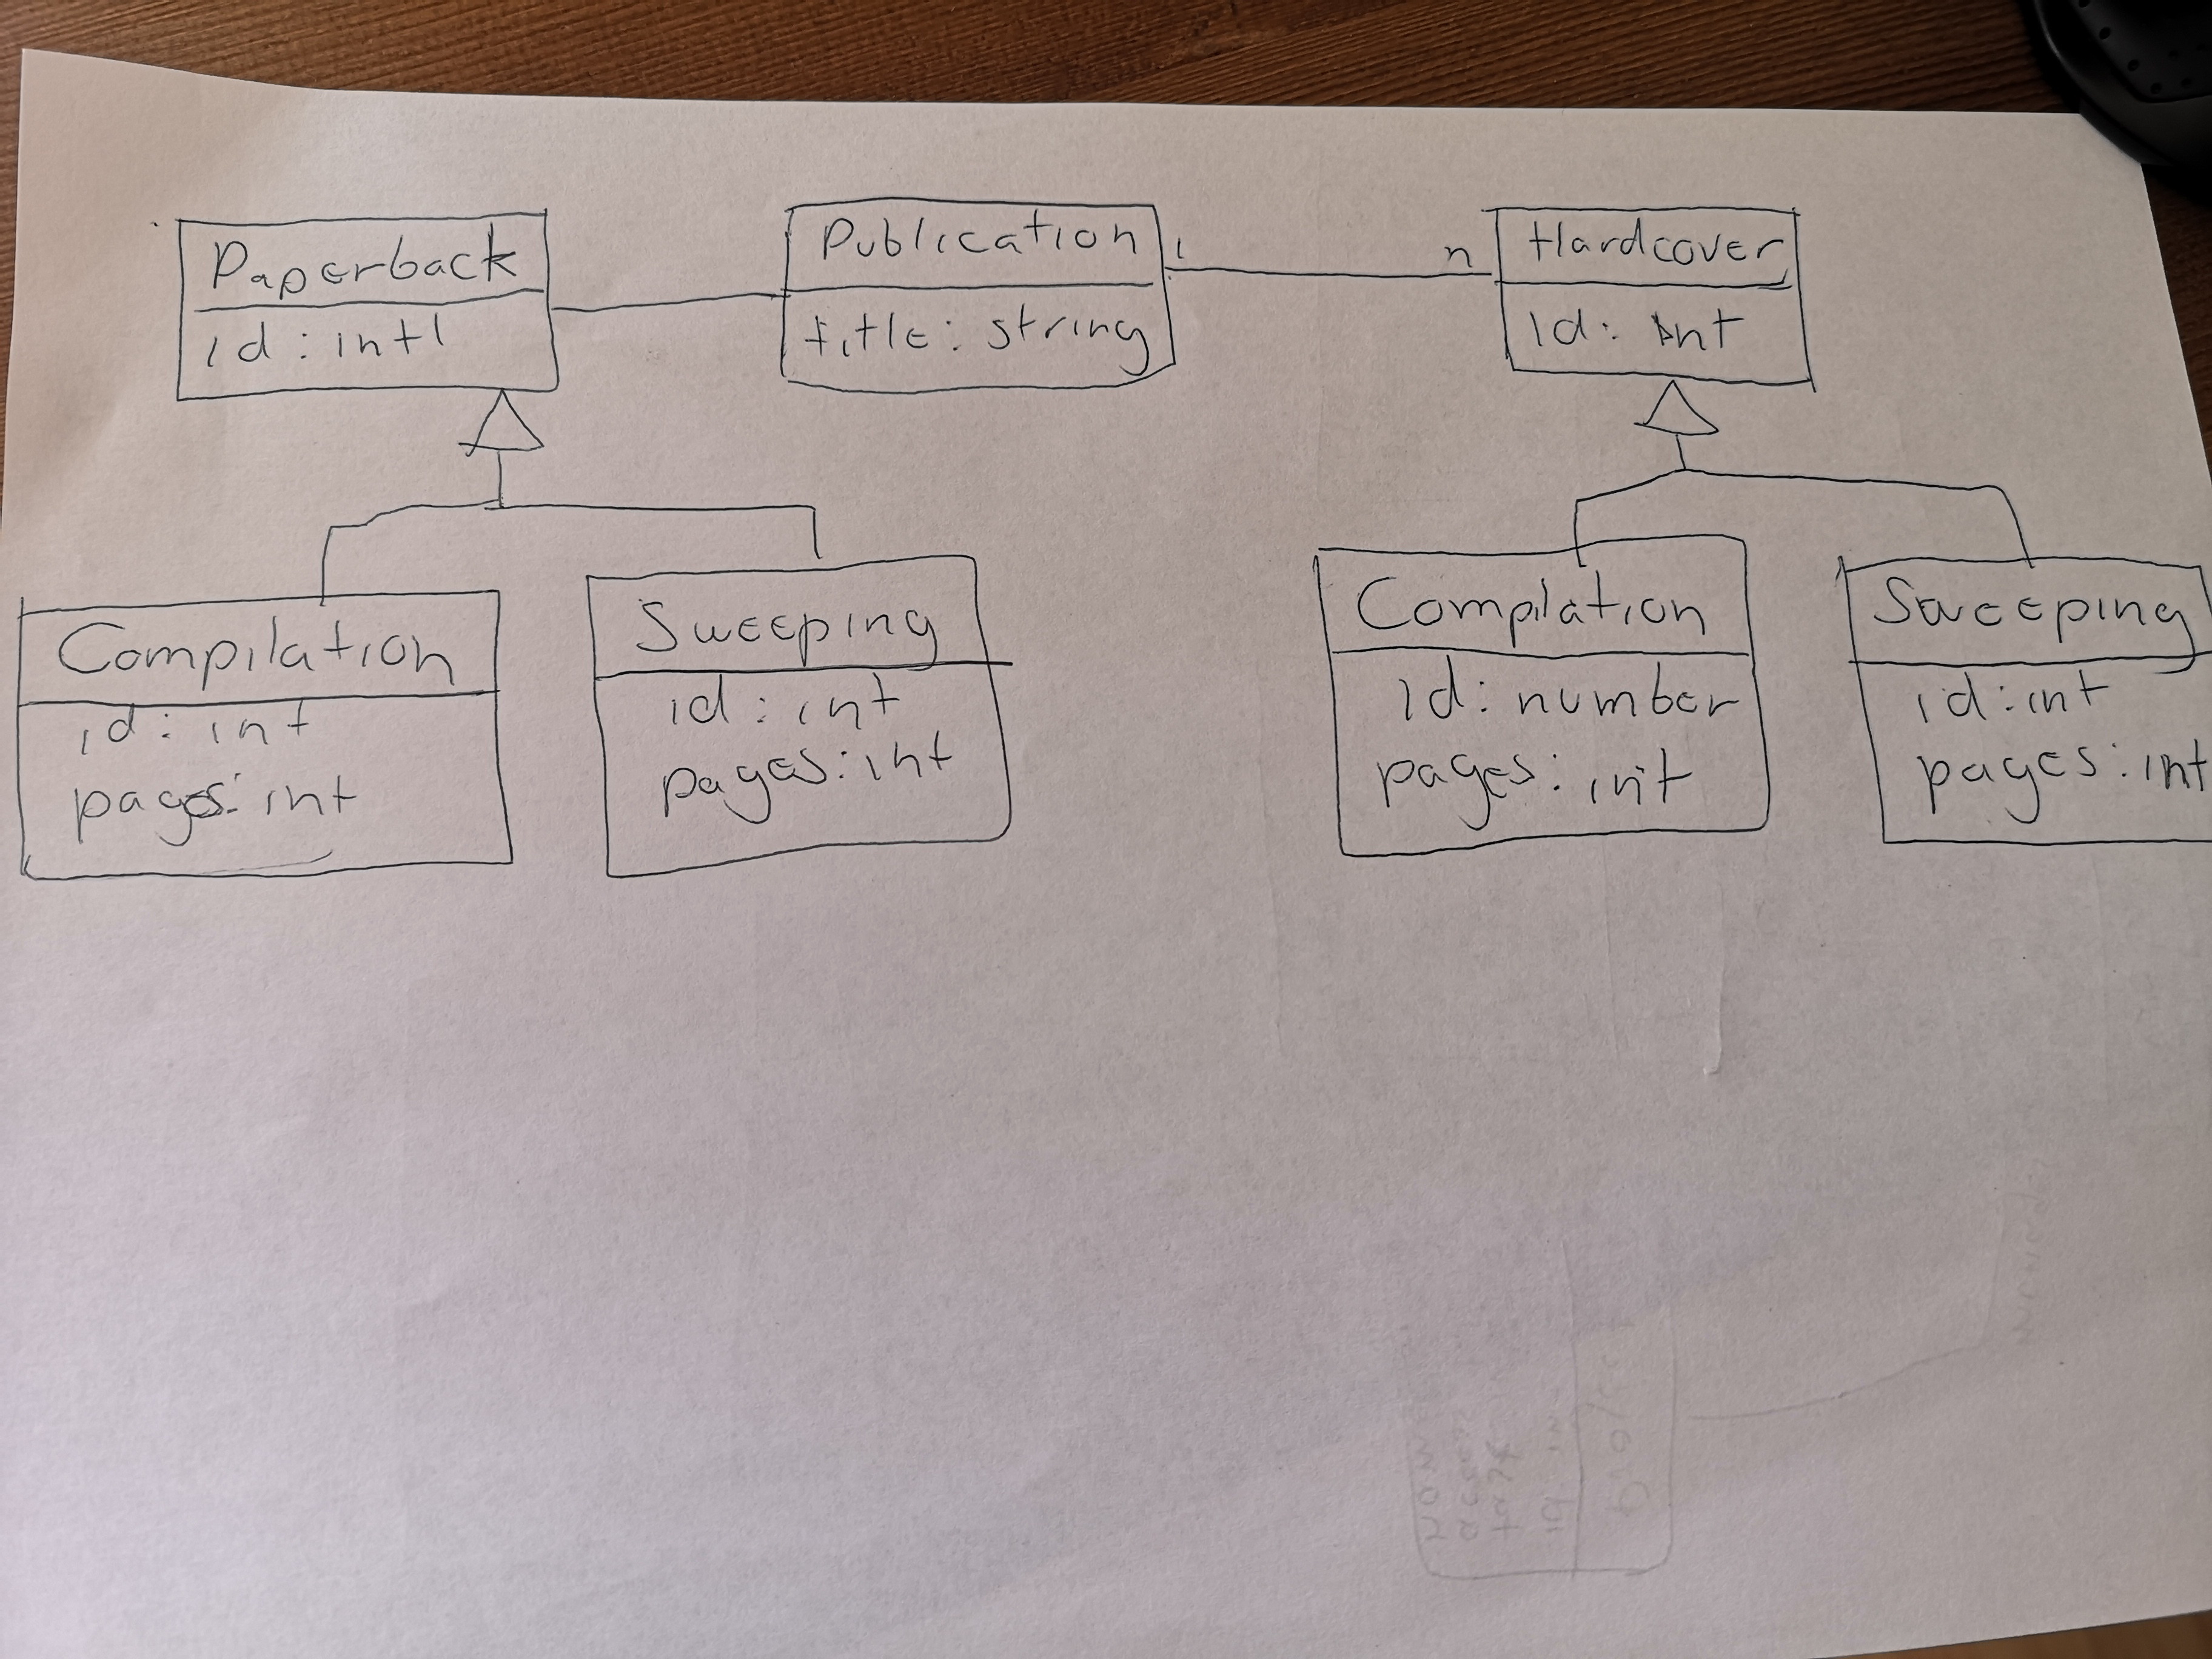association: (1145, 211, 1512, 297), (539, 255, 794, 326)
class attributes: (1304, 517, 1785, 864), (15, 584, 525, 883), (583, 545, 1020, 883), (1843, 540, 2202, 862), (768, 190, 1190, 398), (169, 204, 567, 400), (1486, 199, 1829, 386)
inheritance: (297, 390, 838, 612), (1552, 365, 2048, 584)
